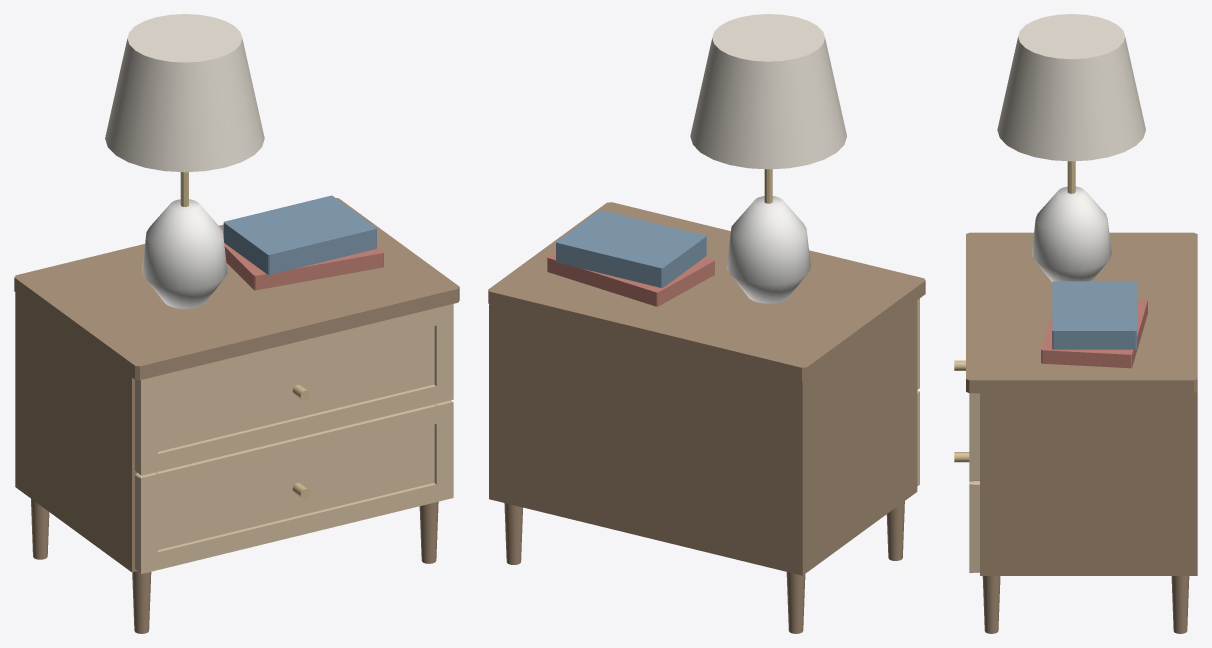
3 renders of one model, left to right at view 1: azimuth 30°, elevation 25°; view 2: azimuth 150°, elevation 25°; view 3: azimuth 270°, elevation 25°, orthographic. The views are drawn at different scales.
Visible parts, largest first — view 1: Tab đầu giường Rộng=600; Sâu=400; view 2: Tab đầu giường Rộng=600; Sâu=400; view 3: Tab đầu giường Rộng=600; Sâu=400.
Boxes of the visible parts, x1,y1,x2,y2 form: Tab đầu giường Rộng=600; Sâu=400: (14, 14, 459, 633); Tab đầu giường Rộng=600; Sâu=400: (488, 14, 925, 633); Tab đầu giường Rộng=600; Sâu=400: (954, 14, 1197, 633).
Size of the model in its own units: 0.61 by 0.97 by 0.425.
